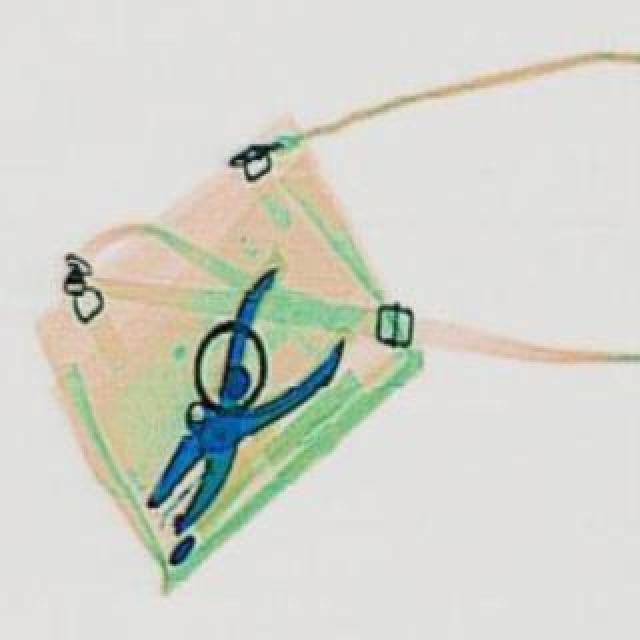wrench: (108, 266, 376, 558)
